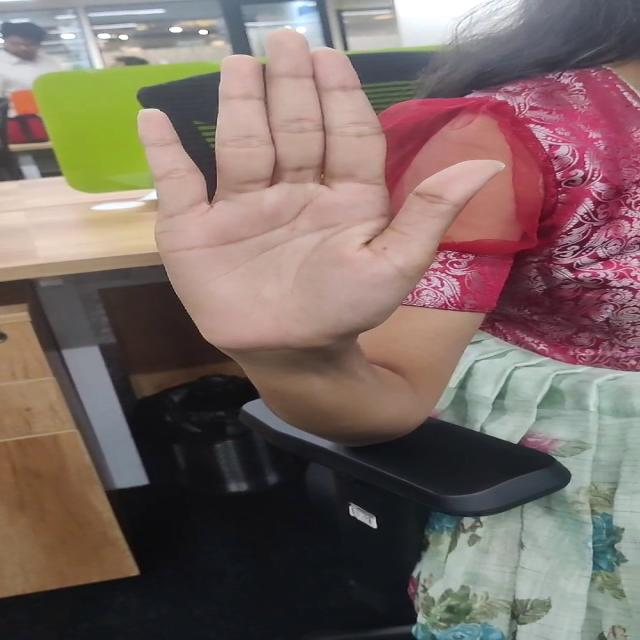no-gloves: (123, 21, 519, 364)
